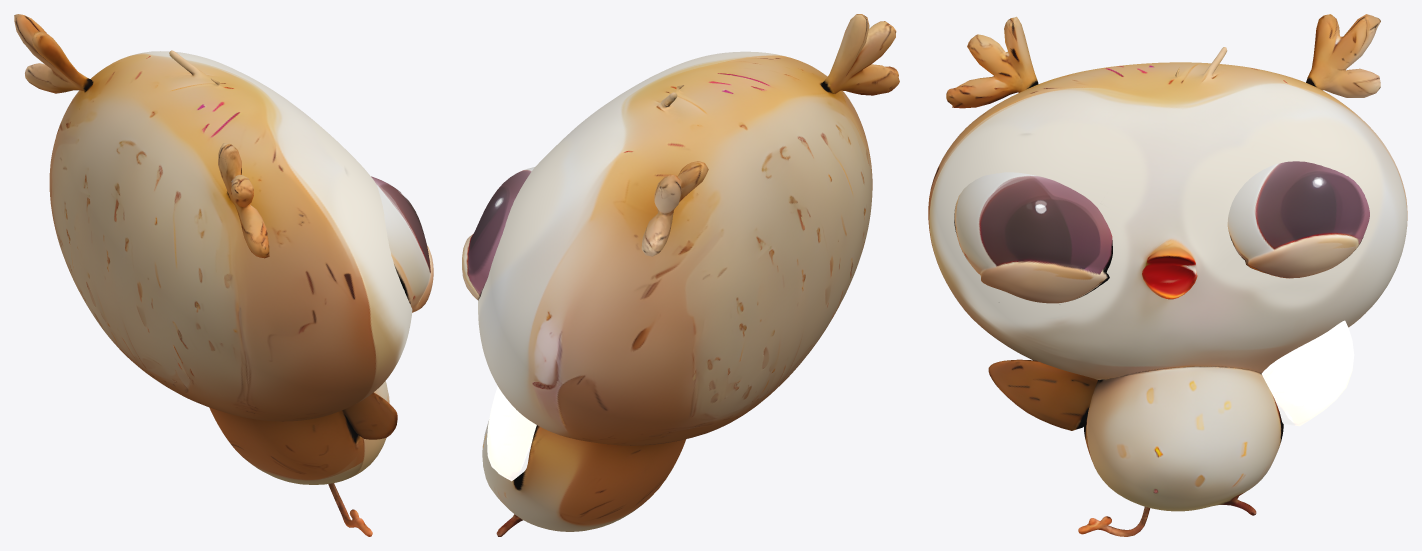
File: card_model.glb
3 renders of one model, left to right at view 1: azimuth 30°, elevation 25°; view 2: azimuth 150°, elevation 25°; view 3: azimuth 270°, elevation 25°, orthographic. The views are drawn at different scales.
Visible parts, largest first — view 1: root.0, root.1, root.2.0, root.6, root.5, root.7; view 2: root.0, root.1, root.5, root.3, root.4, root.6; view 3: root.0, root.1, root.2.0, root.3, root.4, root.7, root.5, root.6.
Boxes of the visible parts, left/top/right/bottom form: root.0: left=49, top=50, right=412, bottom=421; root.1: left=209, top=381, right=389, bottom=536; root.2.0: left=371, top=176, right=433, bottom=312; root.6: left=14, top=14, right=92, bottom=93; root.5: left=218, top=143, right=269, bottom=258; root.7: left=343, top=392, right=397, bottom=439; root.0: left=478, top=51, right=872, bottom=445; root.1: left=482, top=421, right=686, bottom=536; root.5: left=822, top=14, right=899, bottom=95; root.3: left=462, top=167, right=534, bottom=300; root.4: left=487, top=386, right=536, bottom=481; root.6: left=641, top=161, right=708, bottom=256; root.0: left=928, top=47, right=1407, bottom=379; root.1: left=1078, top=366, right=1283, bottom=536; root.2.0: left=954, top=172, right=1112, bottom=303; root.3: left=1227, top=161, right=1369, bottom=278; root.4: left=1261, top=320, right=1354, bottom=426; root.7: left=988, top=359, right=1097, bottom=430; root.5: left=946, top=16, right=1038, bottom=108; root.6: left=1306, top=14, right=1380, bottom=97.
Bounding box in the file's own units: 0.1353 × 0.2222 × 0.2208.
Materials: 9 (9 with a texture image).
